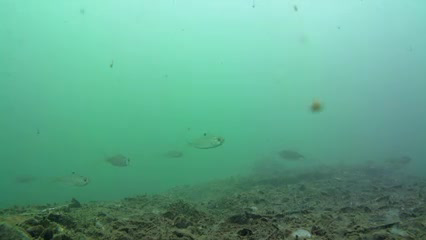azi: (188, 130, 225, 149), (50, 168, 89, 186)
smallfish: (103, 152, 134, 170)
